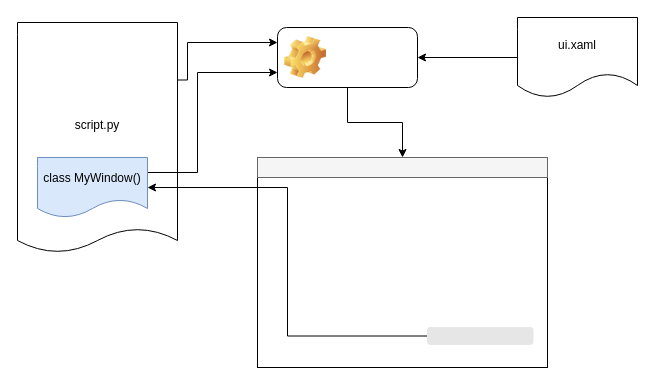
The diagram is 655 pixels wide and 385 high, and some of its shapes have lost their labels. Each missing label, with the centre of its shape:
"Button" goes at point 479,335.
"WPF/XAML" goes at point 347,57.
